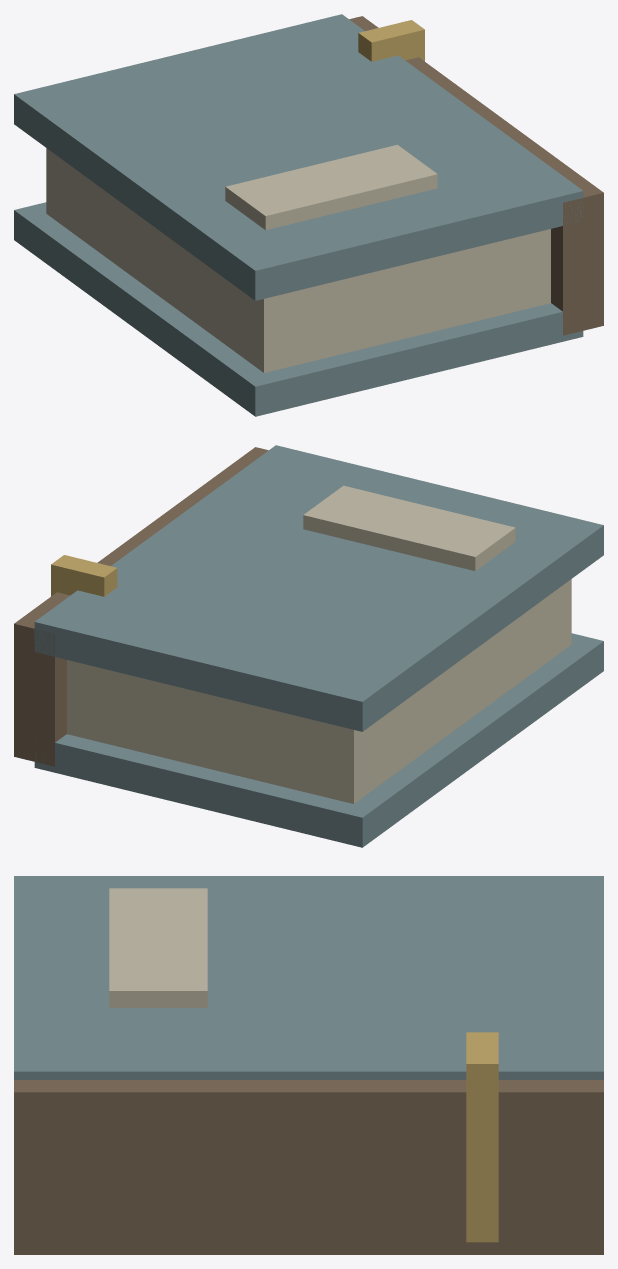
The model's file is spread-portable-codex01.fbx.
3 renders of one model, top to bottom at view 1: azimuth 30°, elevation 25°; view 2: azimuth 150°, elevation 25°; view 3: azimuth 270°, elevation 25°, orthographic. The views are drawn at different scales.
Visible parts, largest first — view 1: spread-portable-codex01__Geometry; view 2: spread-portable-codex01__Geometry; view 3: spread-portable-codex01__Geometry.
Boxes of the visible parts, box(x1,y1,x2,y2) form: spread-portable-codex01__Geometry: box(14, 14, 603, 416); spread-portable-codex01__Geometry: box(14, 445, 603, 847); spread-portable-codex01__Geometry: box(14, 876, 603, 1254).
Bounding box in the file's own units: 0.4325 × 0.1925 × 0.51.
